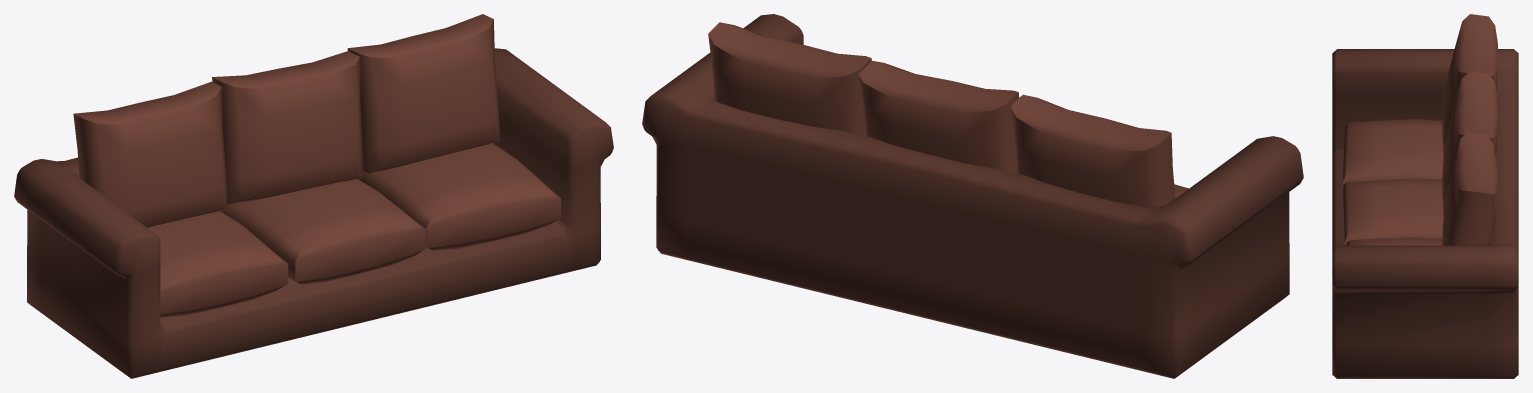
The model's file is Couch_Large1.glb.
The picture shows the model from 3 angles, left to right: view 1: azimuth 30°, elevation 25°; view 2: azimuth 150°, elevation 25°; view 3: azimuth 270°, elevation 25°; orthographic projection. The views are drawn at different scales.
Parts seen in each view (by area): view 1: Couch_Large1; view 2: Couch_Large1; view 3: Couch_Large1.
Part boxes in pixels (x1,y1,x2,y2): Couch_Large1: [14, 14, 613, 378]; Couch_Large1: [642, 14, 1303, 378]; Couch_Large1: [1332, 14, 1518, 378].
Size of the model in its own units: 5.48 by 2.11 by 1.99.
